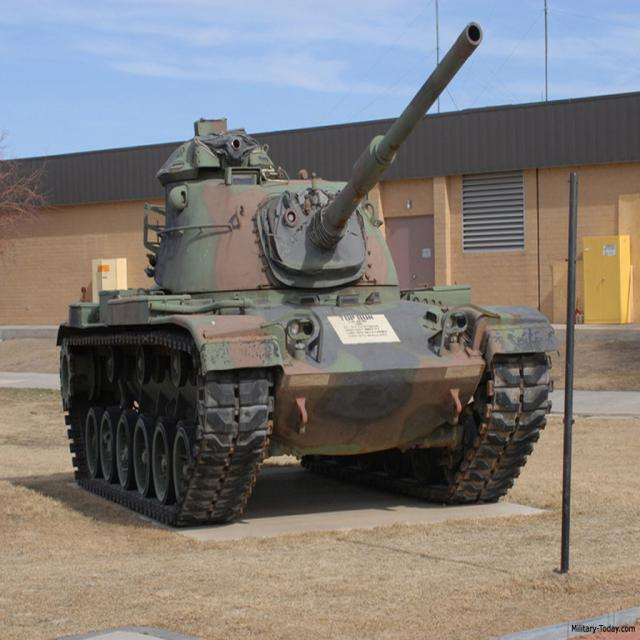Tank: (61, 46, 584, 514)
